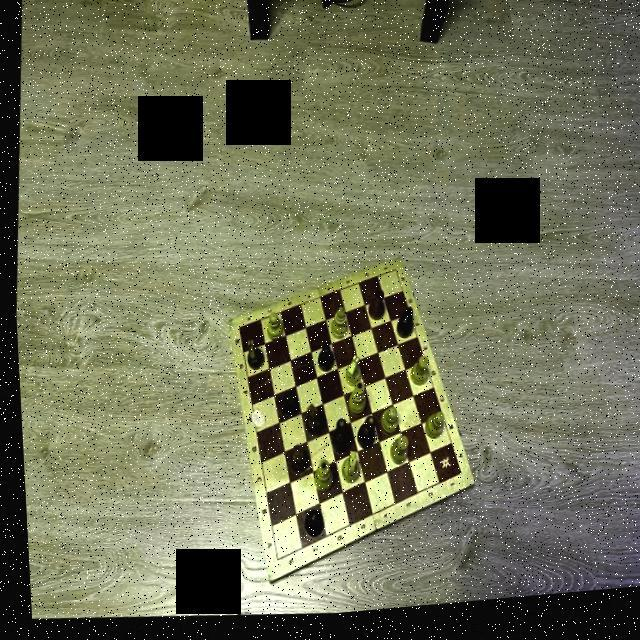chess-table-corners: (452, 474, 459, 486), (268, 560, 272, 568), (233, 328, 237, 334), (390, 274, 394, 278)
